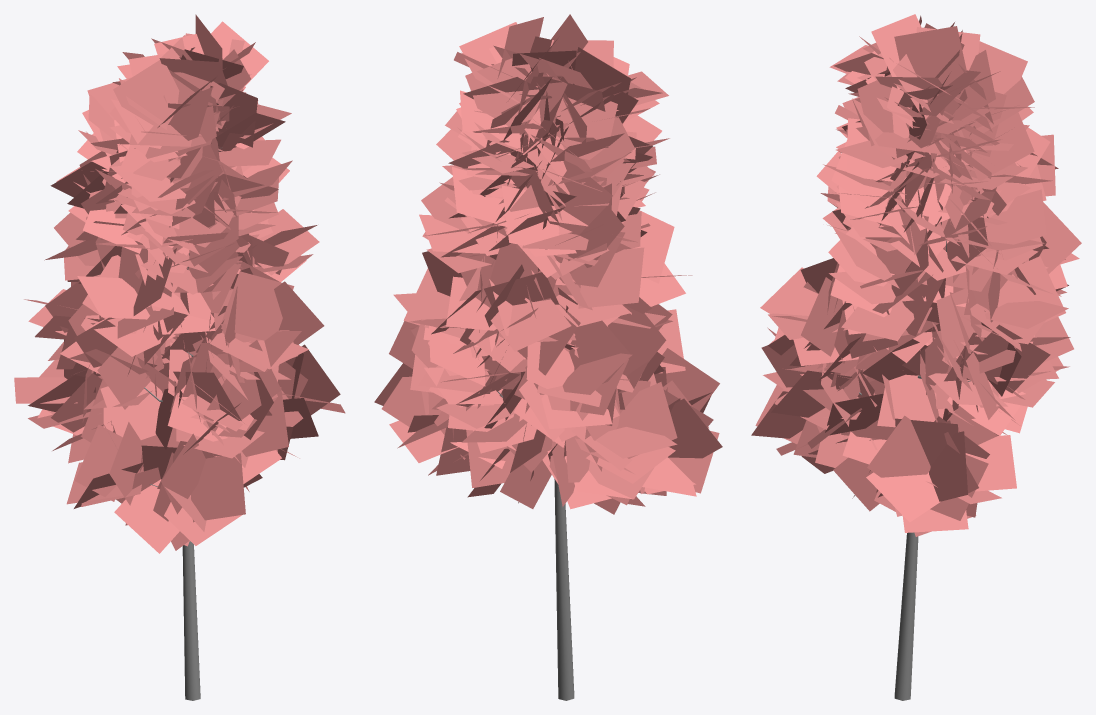
The model's file is SM_tree1.fbx.
3 views of the same model, side by side, from view 1: azimuth 30°, elevation 25°; view 2: azimuth 150°, elevation 25°; view 3: azimuth 270°, elevation 25° (orthographic). The views are drawn at different scales.
Parts seen in each view (by area): view 1: SM_tree1; view 2: SM_tree1; view 3: SM_tree1.
Part boxes in pixels (left/top/right/bottom): SM_tree1: left=14, top=14, right=345, bottom=700; SM_tree1: left=374, top=14, right=722, bottom=700; SM_tree1: left=751, top=14, right=1081, bottom=700.
Bounding box in the file's own units: 447 × 942 × 412.
